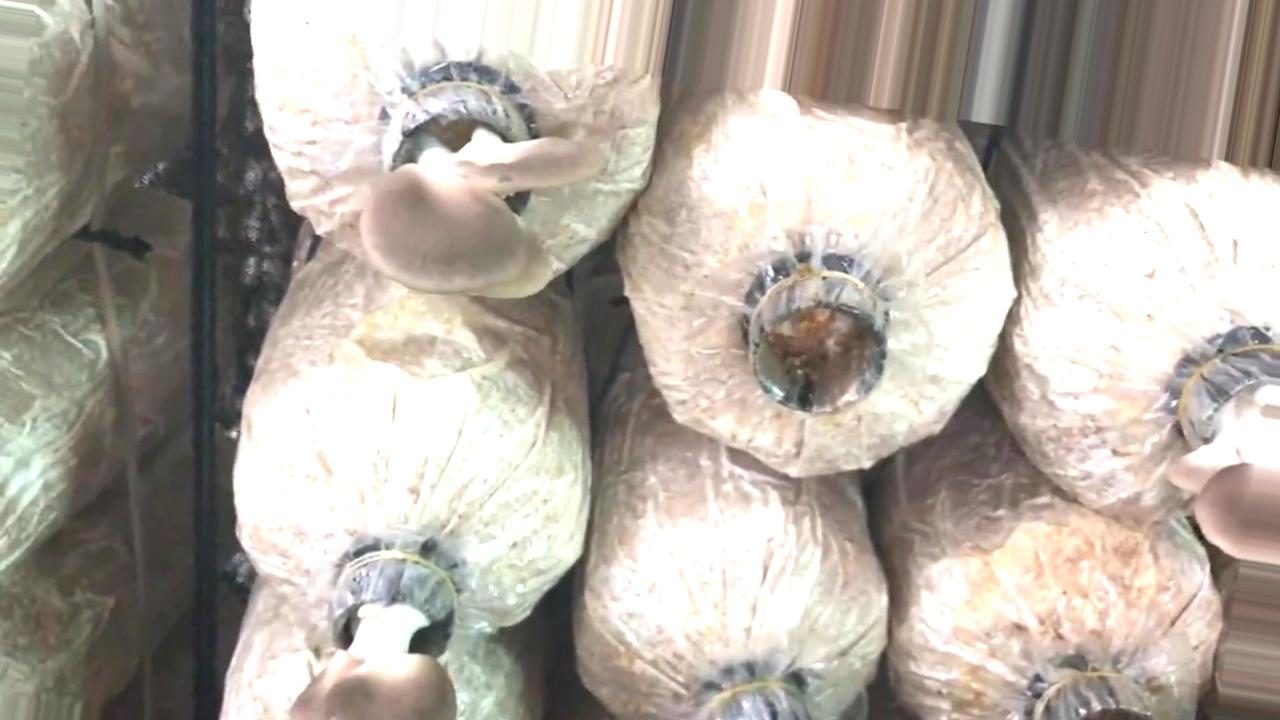nam: (356, 74, 617, 299), (288, 530, 463, 720), (1164, 335, 1280, 567)
